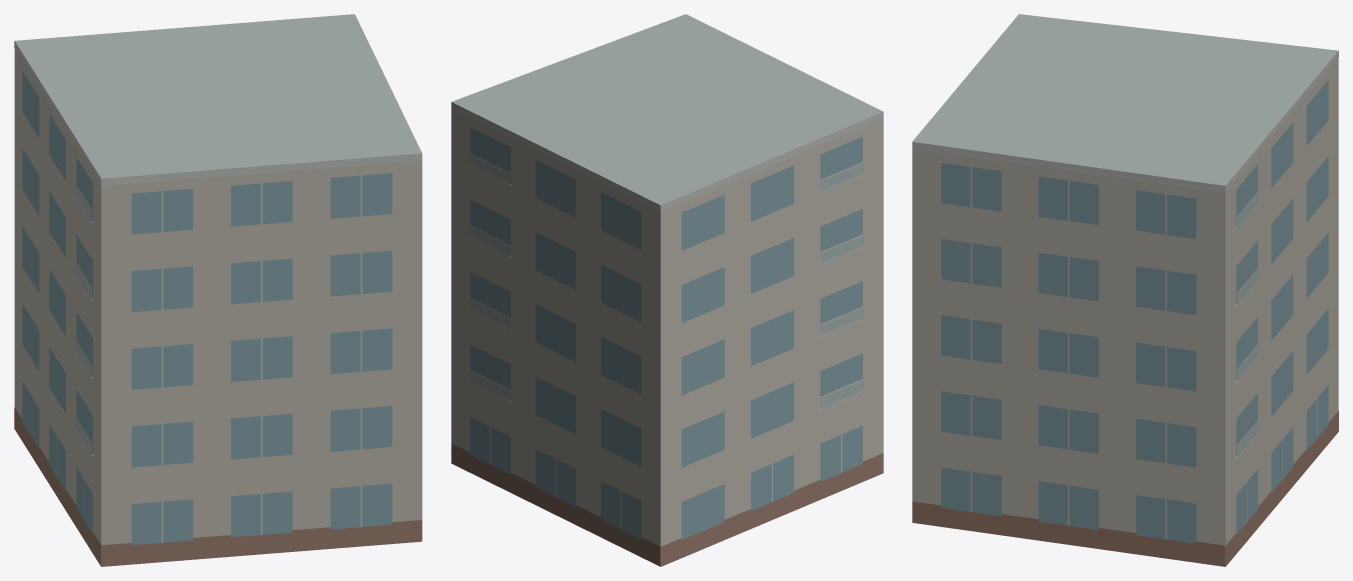
The model's file is survey-upis-32911986.glb.
The picture shows the model from 3 angles, left to right: view 1: azimuth 30°, elevation 25°; view 2: azimuth 150°, elevation 25°; view 3: azimuth 270°, elevation 25°; orthographic projection. The views are drawn at different scales.
Visible parts, largest first — view 1: survey-upis-32911986.tmp; view 2: survey-upis-32911986.tmp; view 3: survey-upis-32911986.tmp.
Part boxes in pixels (<box>): survey-upis-32911986.tmp: <box>14,14,422,566</box>; survey-upis-32911986.tmp: <box>451,14,883,566</box>; survey-upis-32911986.tmp: <box>912,14,1338,566</box>.
Size of the model in its own units: 12.69 by 13.1 by 13.3.
